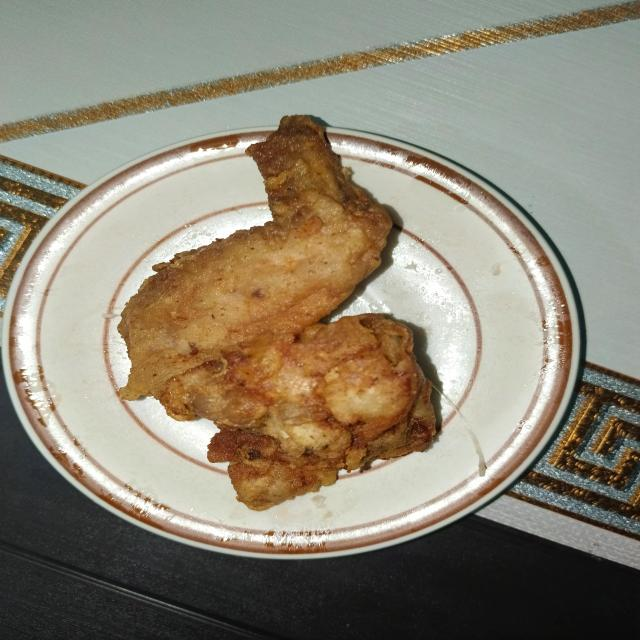Chicken -Fried Chicken-: (115, 124, 473, 495)
